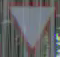Give way: (4, 2, 57, 47)
